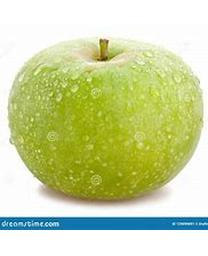apple: (8, 37, 203, 201)
